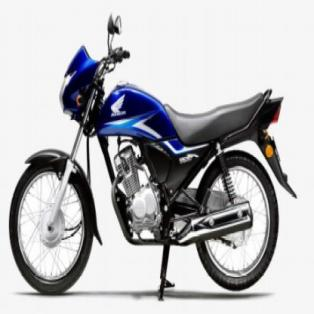Motocicleta: (7, 11, 300, 301)
